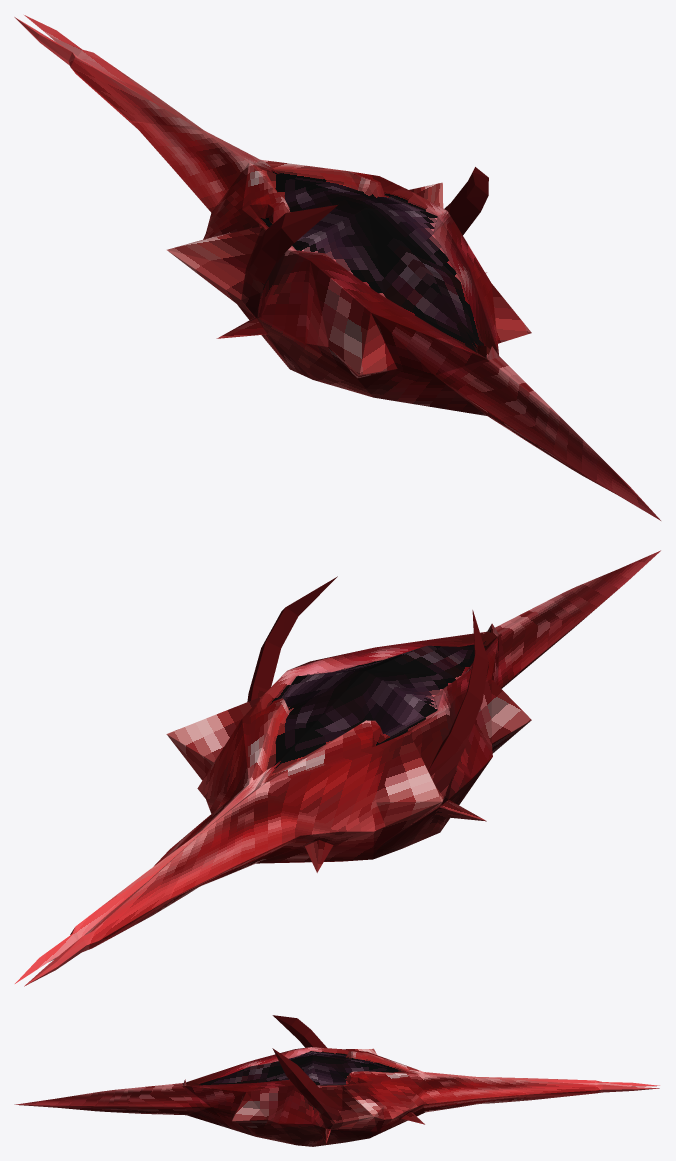
Rendered from asset.glb.
3 renders of one model, top to bottom at view 1: azimuth 30°, elevation 25°; view 2: azimuth 150°, elevation 25°; view 3: azimuth 270°, elevation 25°, orthographic. The views are drawn at different scales.
Visible parts, largest first — view 1: world; view 2: world; view 3: world.
Boxes of the visible parts, x1,y1,x2,y2 form: world: (14, 15, 660, 520); world: (15, 550, 660, 986); world: (14, 1015, 659, 1146).
Bounding box in the file's own units: 0.3403 × 0.2403 × 1.37.
Materials: 1 (1 with a texture image).
